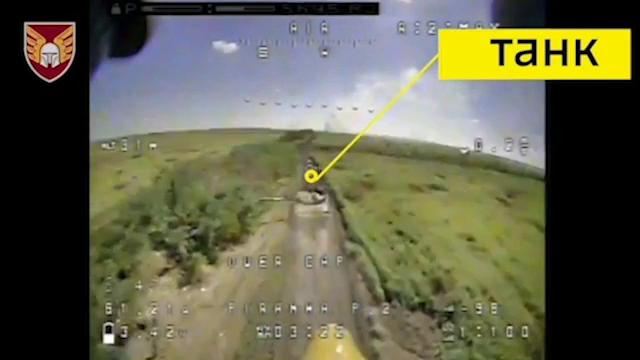tank: (292, 181, 333, 227)
